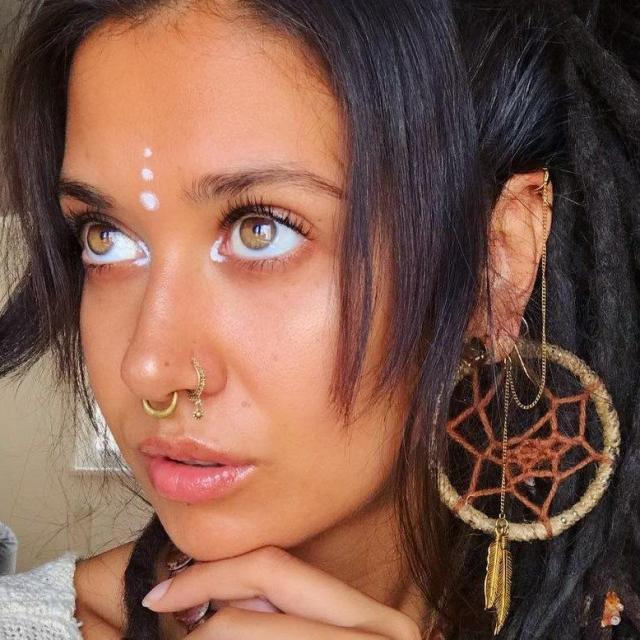Earring: (407, 260, 628, 640)
